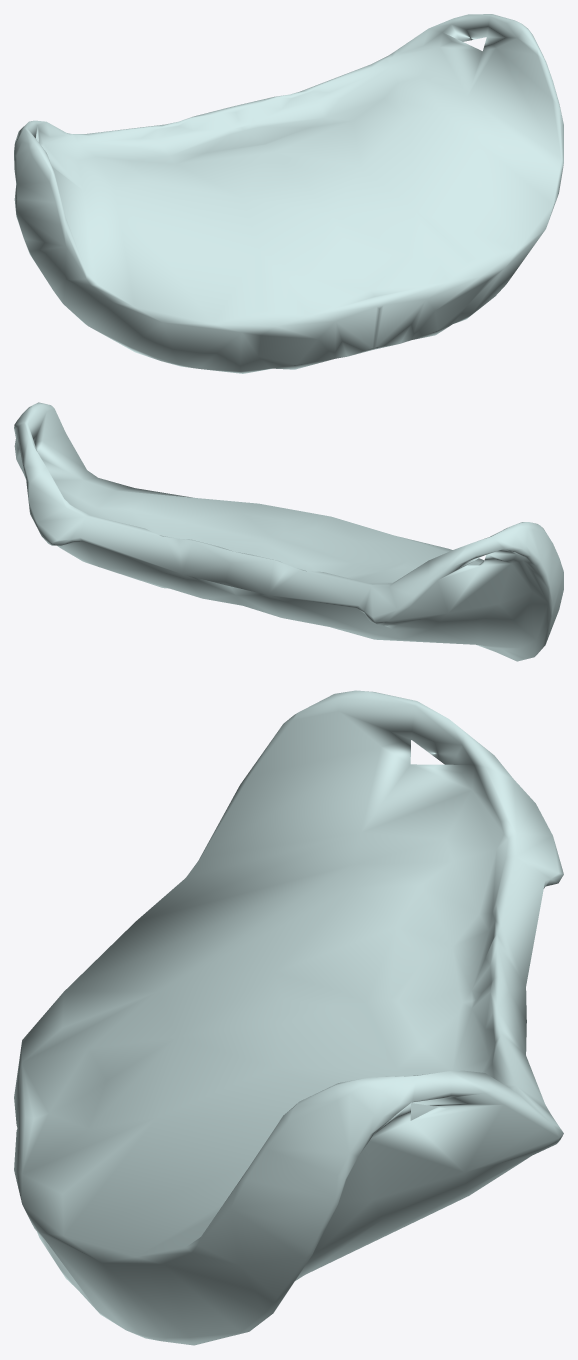
The model's file is Intervertebral_disc_C6-C7_Generated_Mesh_From_X3D.093.glb.
3 views of the same model, one above another, from view 1: azimuth 30°, elevation 25°; view 2: azimuth 150°, elevation 25°; view 3: azimuth 270°, elevation 25° (orthographic). The views are drawn at different scales.
Parts seen in each view (by area): view 1: Intervertebral_disc_C6-C7_Generated_Mesh_From_X3D.093; view 2: Intervertebral_disc_C6-C7_Generated_Mesh_From_X3D.093; view 3: Intervertebral_disc_C6-C7_Generated_Mesh_From_X3D.093.
Boxes of the visible parts, left/top/right/bottom form: Intervertebral_disc_C6-C7_Generated_Mesh_From_X3D.093: left=14, top=14, right=563, bottom=373; Intervertebral_disc_C6-C7_Generated_Mesh_From_X3D.093: left=14, top=402, right=563, bottom=661; Intervertebral_disc_C6-C7_Generated_Mesh_From_X3D.093: left=14, top=690, right=563, bottom=1345.
Size of the model in its own units: 0.0305 by 0.0113 by 0.0166.
